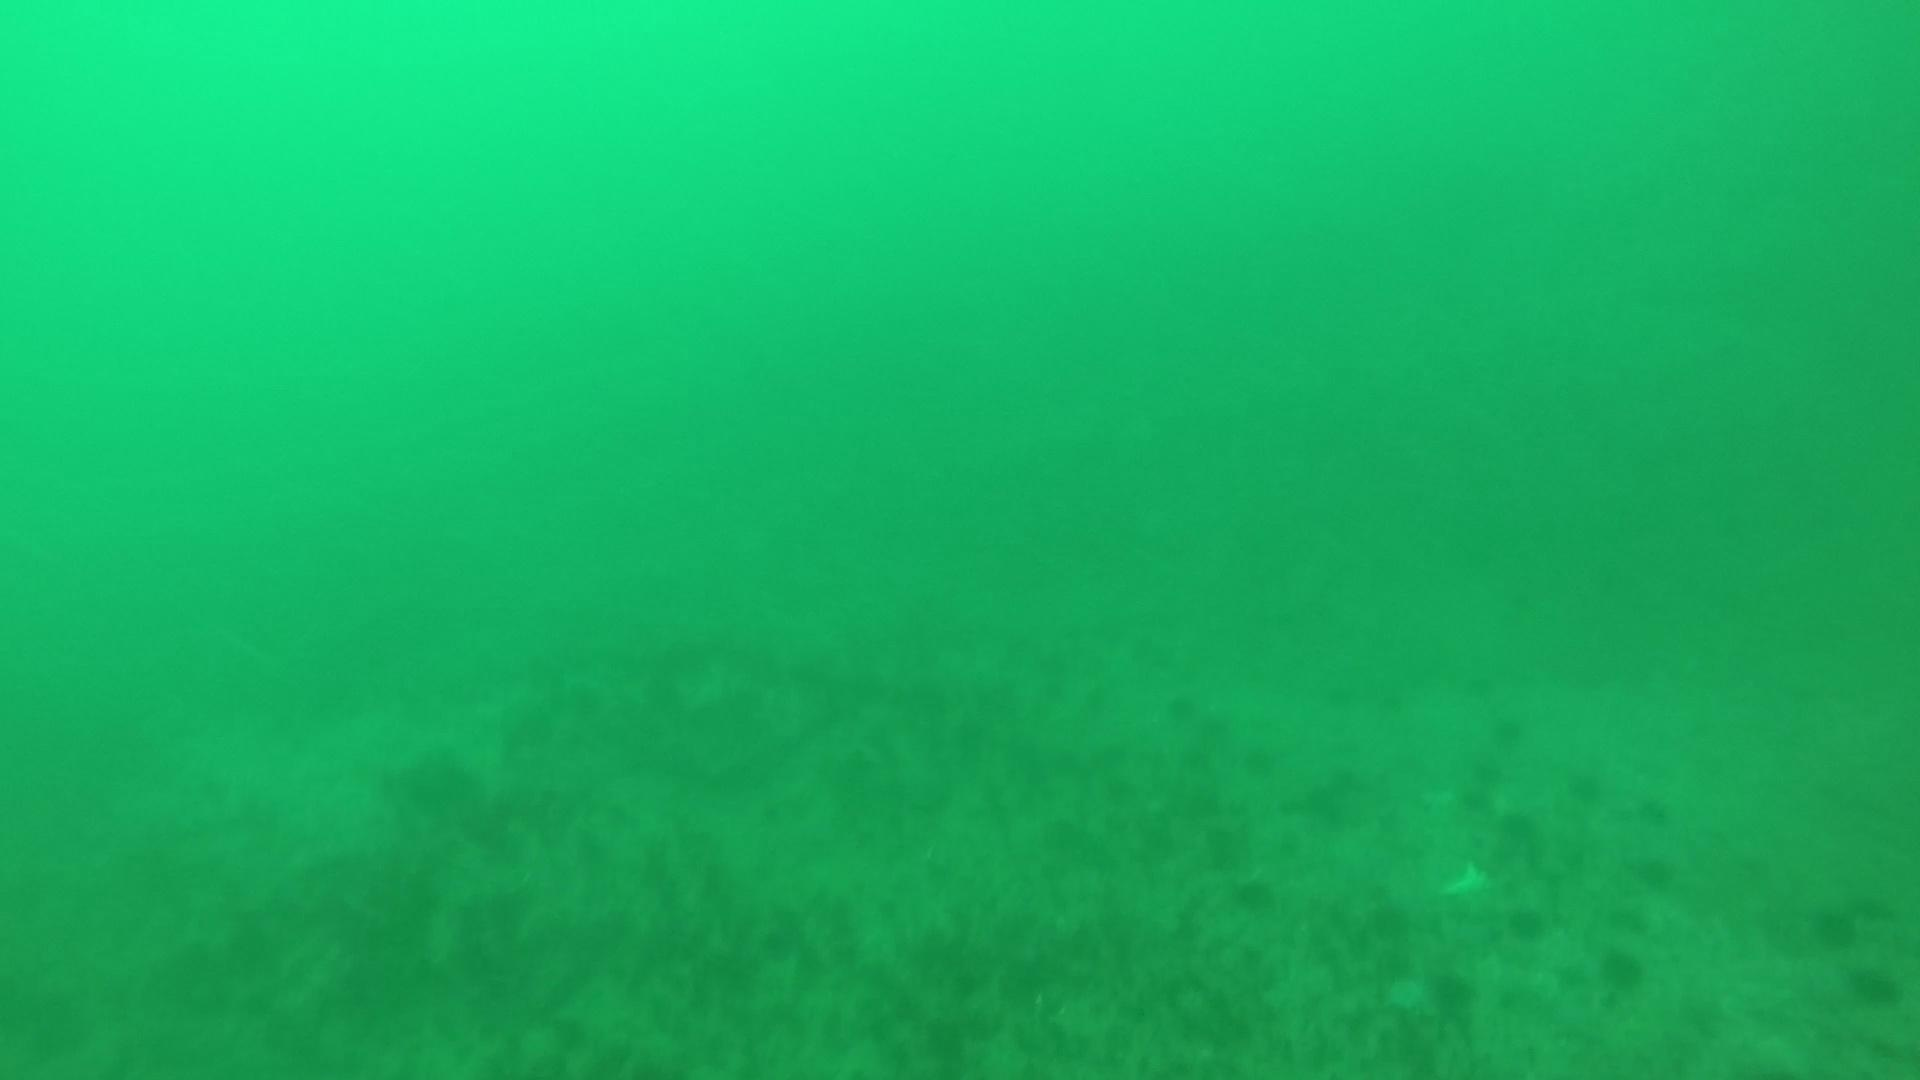echinus: (1842, 957, 1907, 1013), (1592, 942, 1652, 1000), (1422, 964, 1482, 1022), (1805, 897, 1866, 953), (1501, 899, 1553, 948), (1629, 847, 1680, 894), (1631, 783, 1683, 829), (1499, 808, 1542, 840), (1453, 782, 1495, 814), (1466, 752, 1509, 783), (1242, 742, 1284, 774), (1164, 684, 1207, 716), (1232, 876, 1273, 907), (1367, 905, 1408, 936), (1484, 707, 1524, 738), (1568, 771, 1610, 802)
